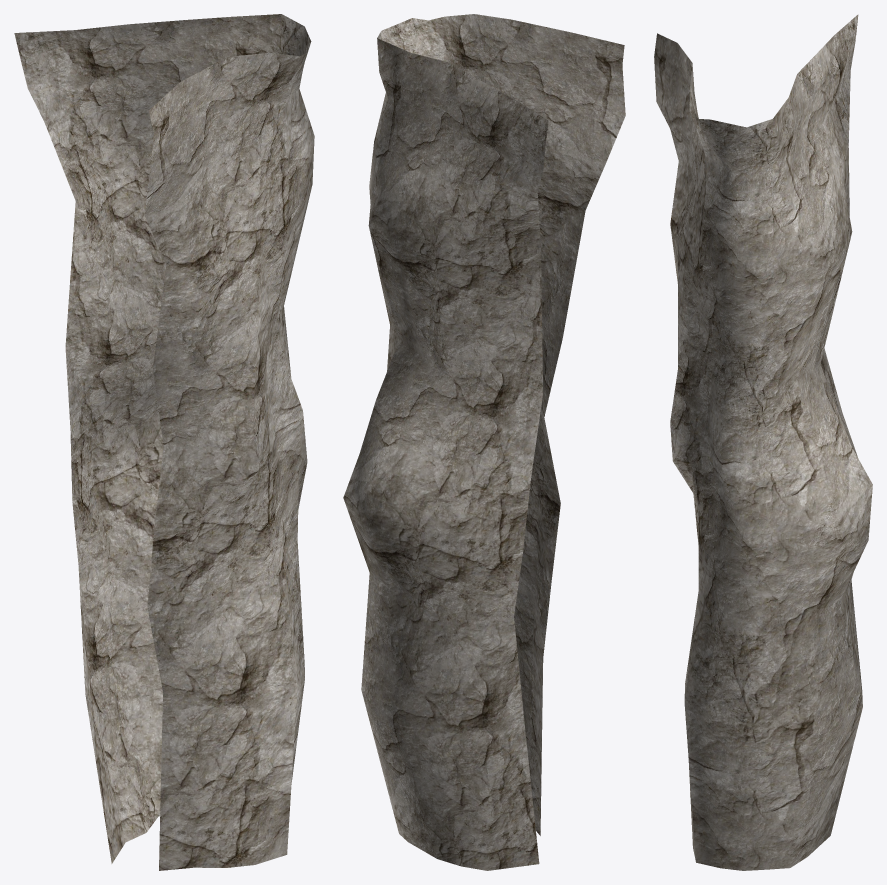
Rendered from Cliff_02.006.fbx.
The picture shows the model from 3 angles, left to right: view 1: azimuth 30°, elevation 25°; view 2: azimuth 150°, elevation 25°; view 3: azimuth 270°, elevation 25°; orthographic projection. The views are drawn at different scales.
Parts seen in each view (by area): view 1: Cliff_02.006; view 2: Cliff_02.006; view 3: Cliff_02.006.
Part boxes in pixels (bbox=[...]): Cliff_02.006: bbox=[14, 14, 314, 870]; Cliff_02.006: bbox=[343, 14, 625, 870]; Cliff_02.006: bbox=[654, 14, 872, 870].
Size of the model in its own units: 1137 by 3763 by 958.
